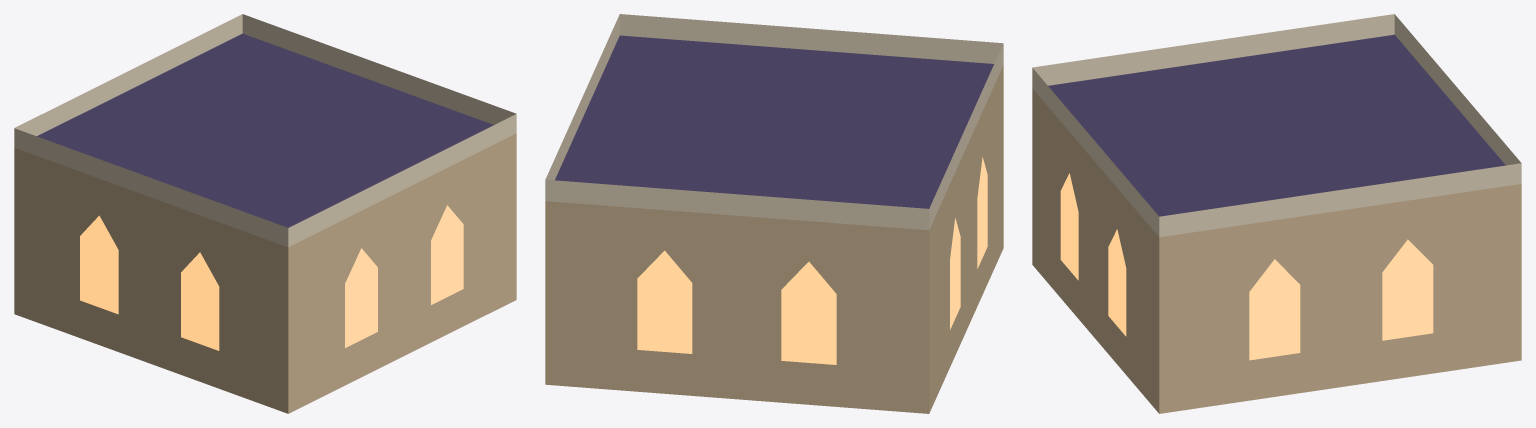
The picture shows the model from 3 angles, left to right: view 1: azimuth 30°, elevation 25°; view 2: azimuth 150°, elevation 25°; view 3: azimuth 270°, elevation 25°; orthographic projection. The views are drawn at different scales.
Visible parts, largest first — view 1: campus/b-063-0; view 2: campus/b-063-0; view 3: campus/b-063-0.
Part boxes in pixels (x1=…): campus/b-063-0: x1=14, y1=14, x2=516, y2=413; campus/b-063-0: x1=545, y1=14, x2=1003, y2=413; campus/b-063-0: x1=1032, y1=14, x2=1521, y2=413.
Size of the model in its own units: 11.57 by 5.25 by 11.8.
